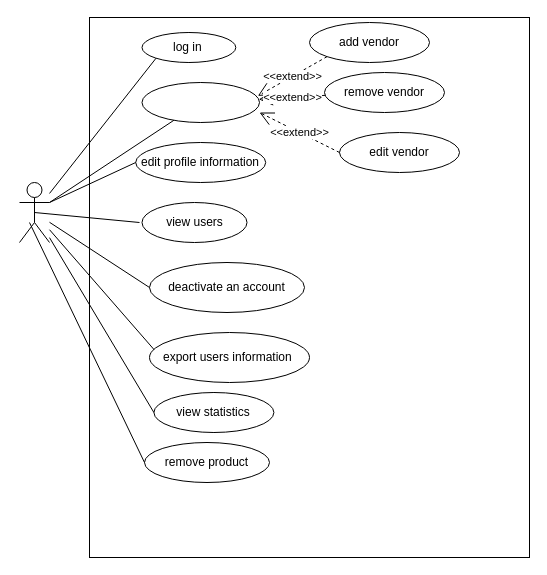
This 547x575 diagram has some shape labels left out. The centre of each missing label's shape, as x and y in pixels:
"Admin" goes at [34,212].
"manage vendors" goes at [200,102].
